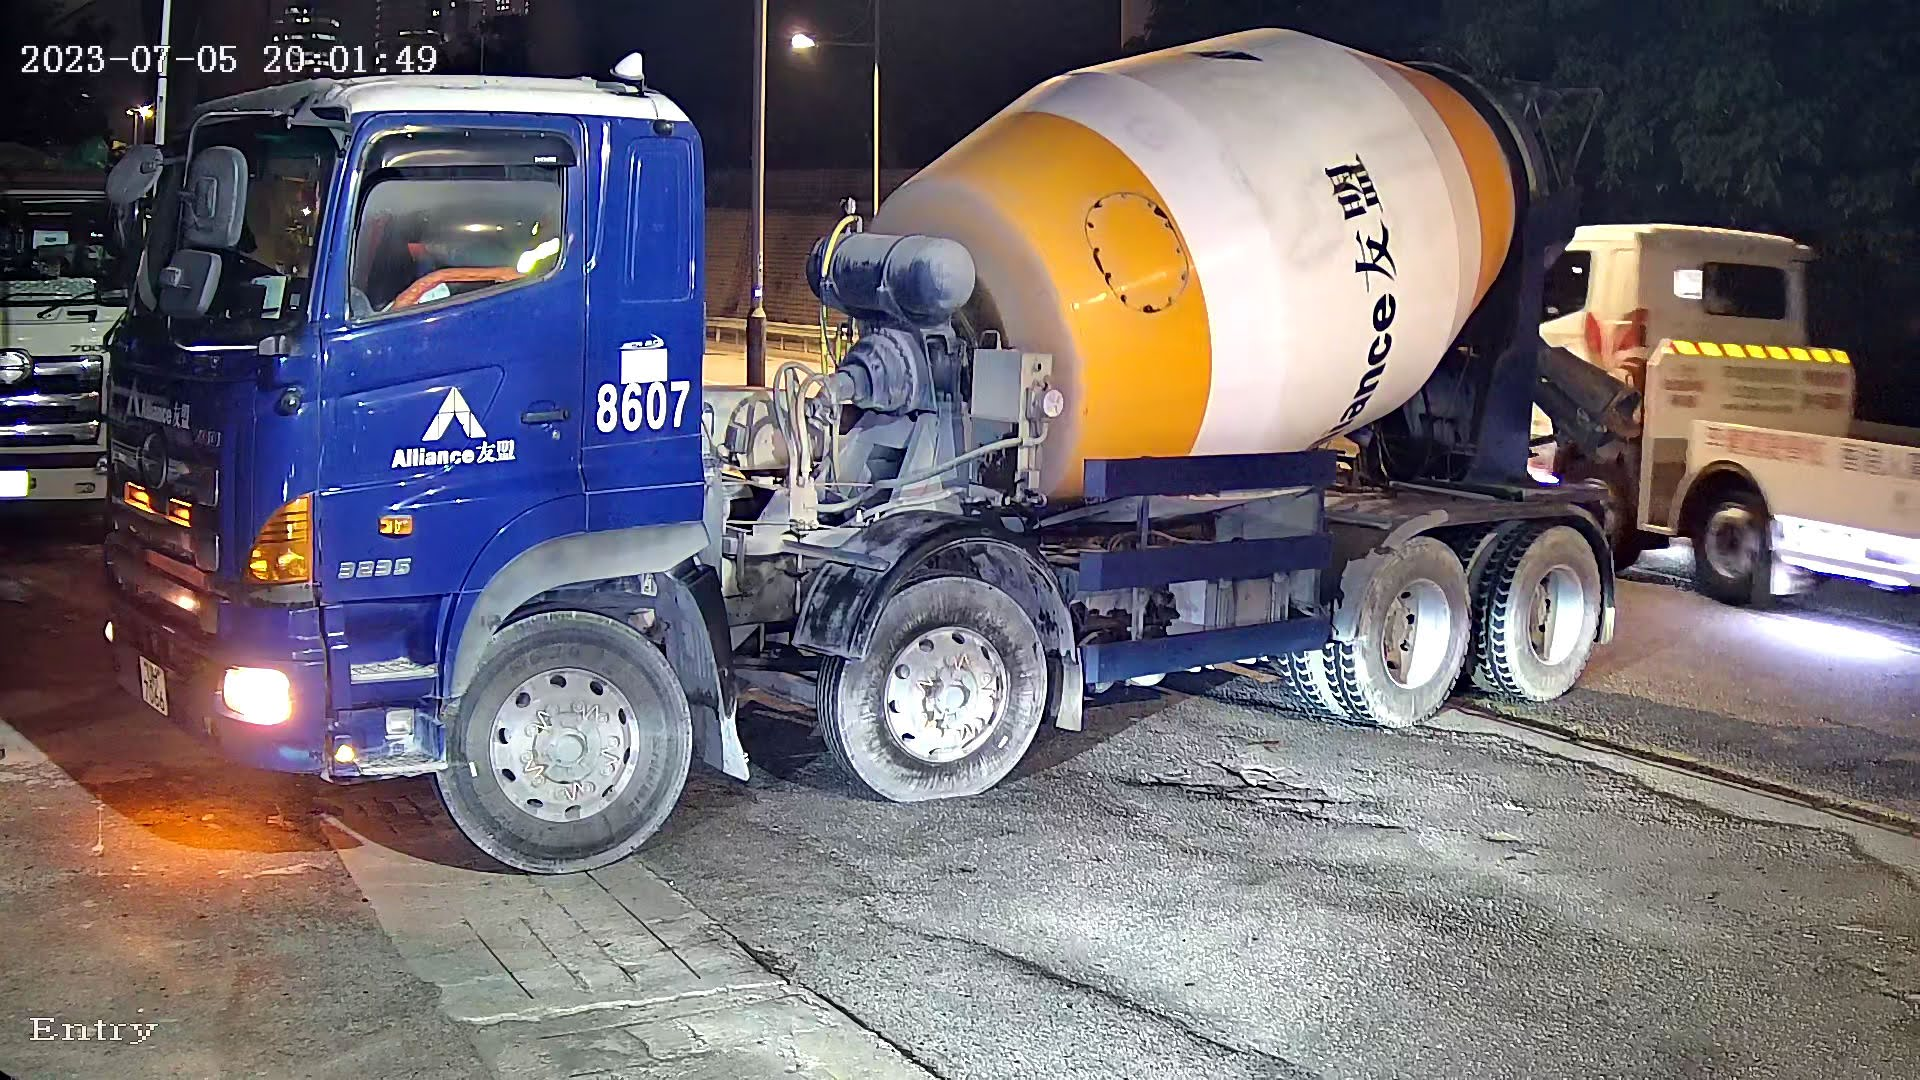truck: (71, 7, 1745, 884)
